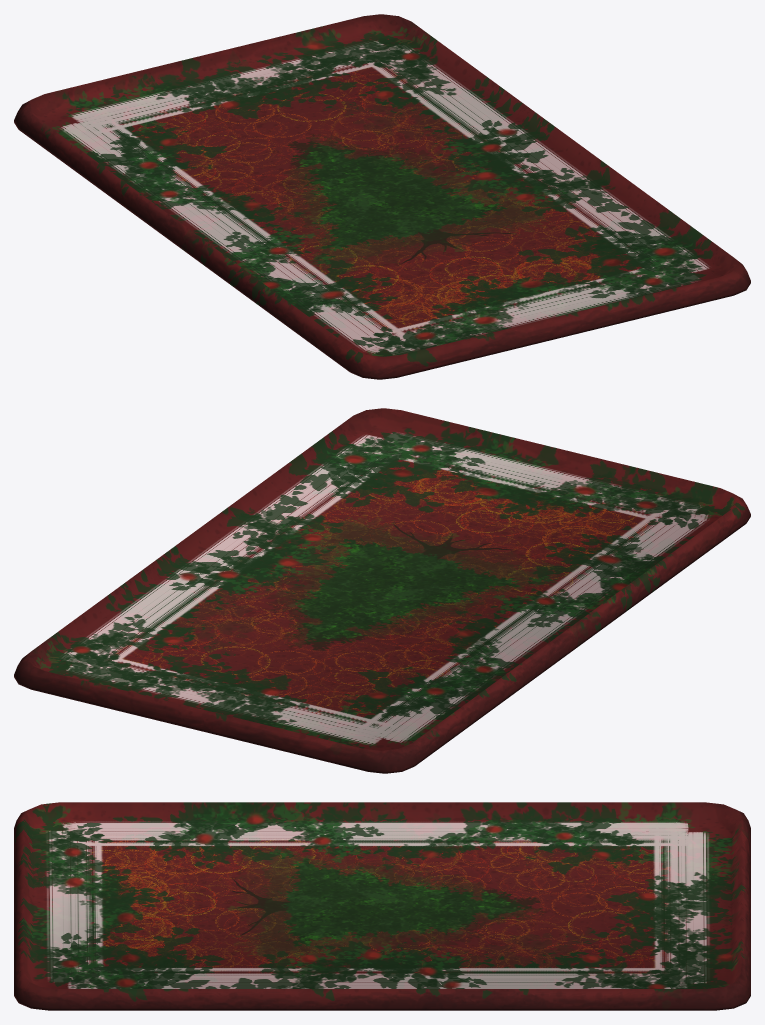
Rendered from Travessa.fbx.
3 renders of one model, top to bottom at view 1: azimuth 30°, elevation 25°; view 2: azimuth 150°, elevation 25°; view 3: azimuth 270°, elevation 25°, orthographic.
Parts seen in each view (by area): view 1: Travessa; view 2: Travessa; view 3: Travessa.
Boxes of the visible parts, x1,y1,x2,y2 form: Travessa: (14,14,750,379); Travessa: (14,408,750,773); Travessa: (14,802,750,1010).
Bounding box in the file's own units: 40 × 1.68 × 64.
1 material, 1 textured.
